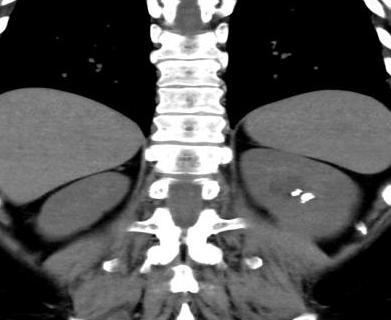Tas_Var: (300, 192, 316, 202), (290, 190, 300, 197), (296, 188, 304, 194), (300, 200, 306, 204)
